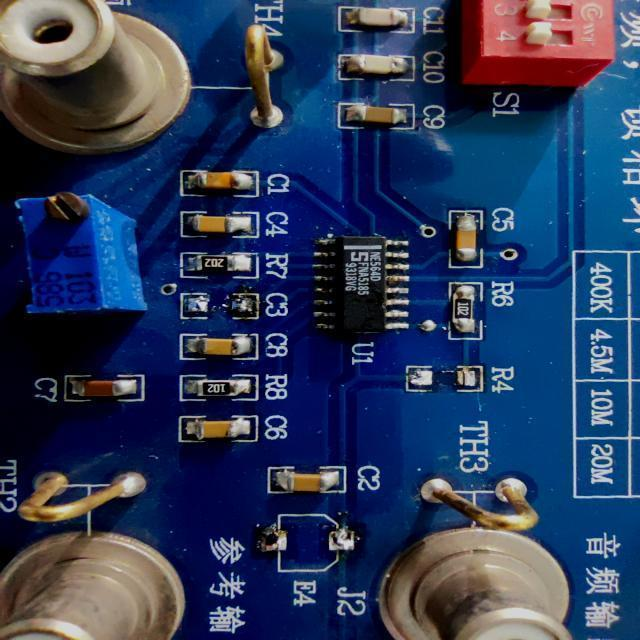Missing component: (246, 497, 366, 580), (404, 362, 519, 398), (176, 287, 292, 321)
